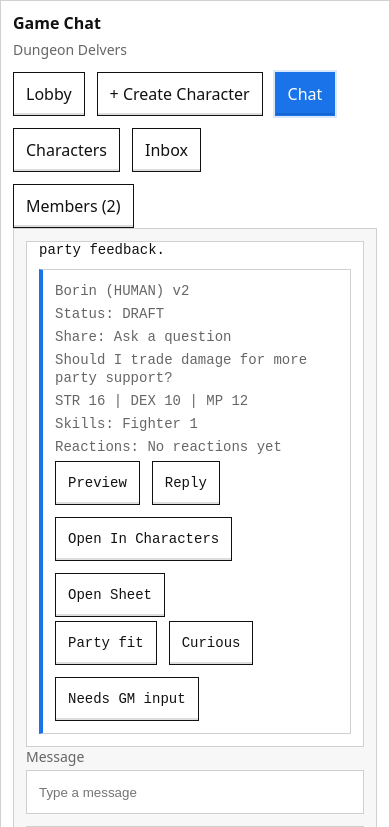
it: GameChatPage › opens a preview sheet for a shared character artifact and hands reply context to the composer
The image size is (390, 827).
(page scrolled)
Click the button "Preview". click: [97, 483]
box: x1=55 y1=461 x2=140 y2=505
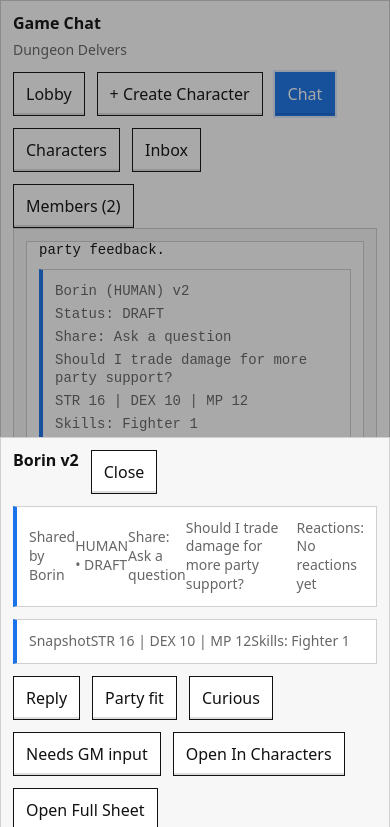
Now the heading "Borin v2" is shown, box x1=13 y1=448 x2=79 y2=470
Now the text "Shared by Borin" is shown, box x1=29 y1=528 x2=75 y2=585
Now the text "HUMAN • DRAFT" is shown, box x1=75 y1=537 x2=128 y2=575
Click the button "Reply". click: [47, 698]
box: x1=13 y1=676 x2=80 y2=720
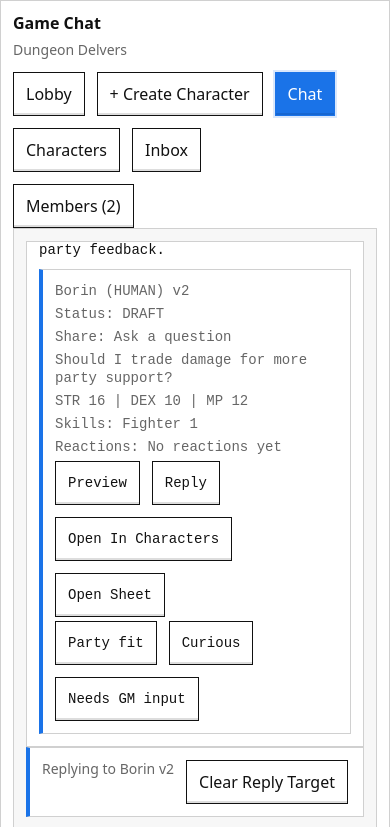
Now the text "Replying to Borin v2" is shown, box x1=42 y1=759 x2=174 y2=778
